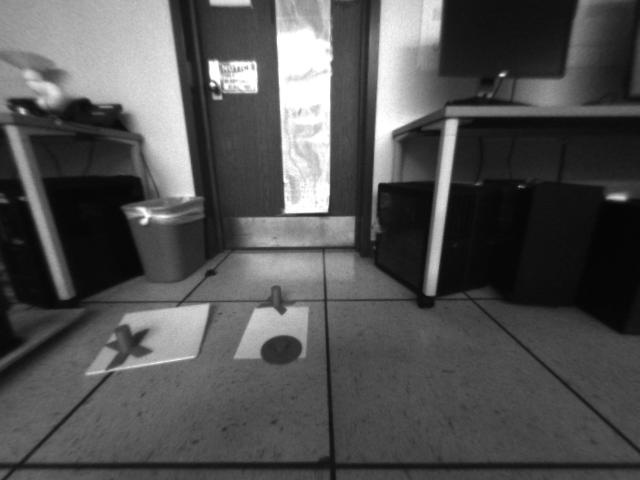X: (102, 323, 153, 370), (255, 283, 293, 316)
